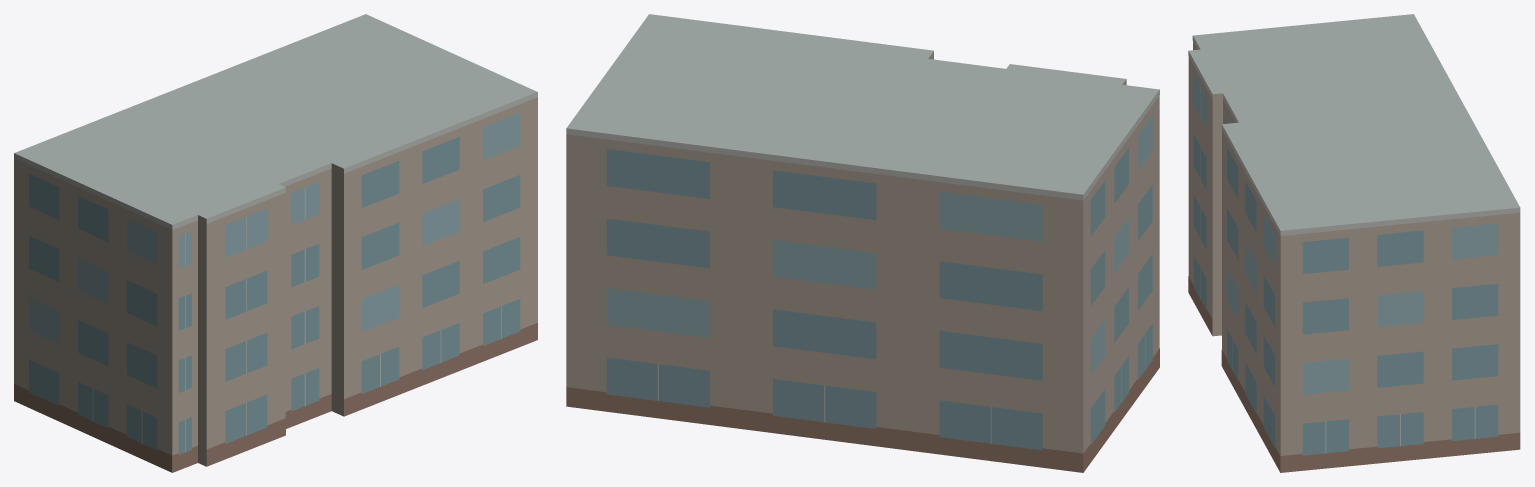
File: survey-upis-32986640.glb
3 views of the same model, side by side, from view 1: azimuth 30°, elevation 25°; view 2: azimuth 150°, elevation 25°; view 3: azimuth 270°, elevation 25° (orthographic). The views are drawn at different scales.
Parts seen in each view (by area): view 1: survey-upis-32986640.tmp; view 2: survey-upis-32986640.tmp; view 3: survey-upis-32986640.tmp.
Boxes of the visible parts, box(x1,y1,x2,y2) form: survey-upis-32986640.tmp: box(14, 14, 537, 472); survey-upis-32986640.tmp: box(566, 14, 1159, 472); survey-upis-32986640.tmp: box(1188, 14, 1520, 472).
Size of the model in its own units: 22.3 by 11.6 by 14.43.
